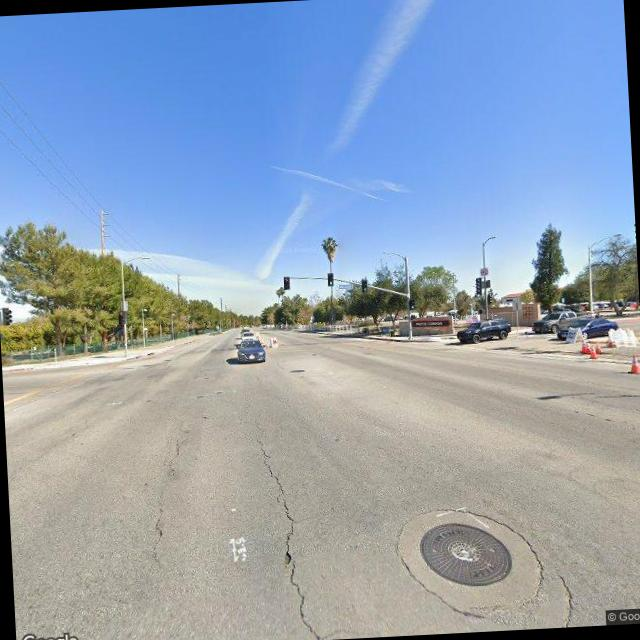pothole: (249, 419, 326, 640), (140, 428, 190, 564)
